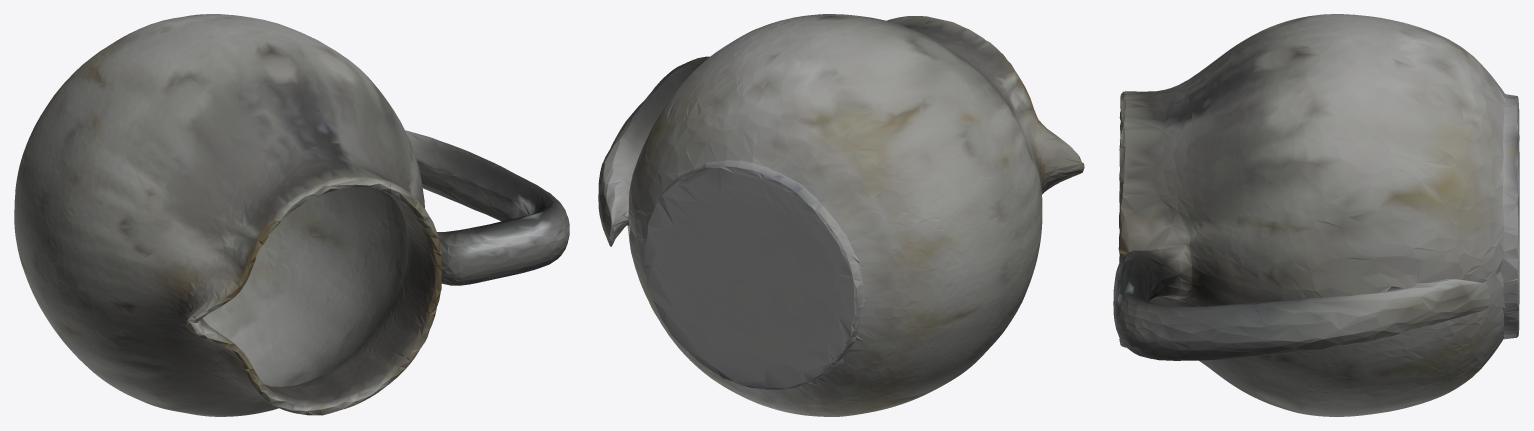
The picture shows the model from 3 angles, left to right: view 1: azimuth 30°, elevation 25°; view 2: azimuth 150°, elevation 25°; view 3: azimuth 270°, elevation 25°; orthographic projection.
Bounding box in the file's own units: 0.2225 × 0.177 × 0.18.
